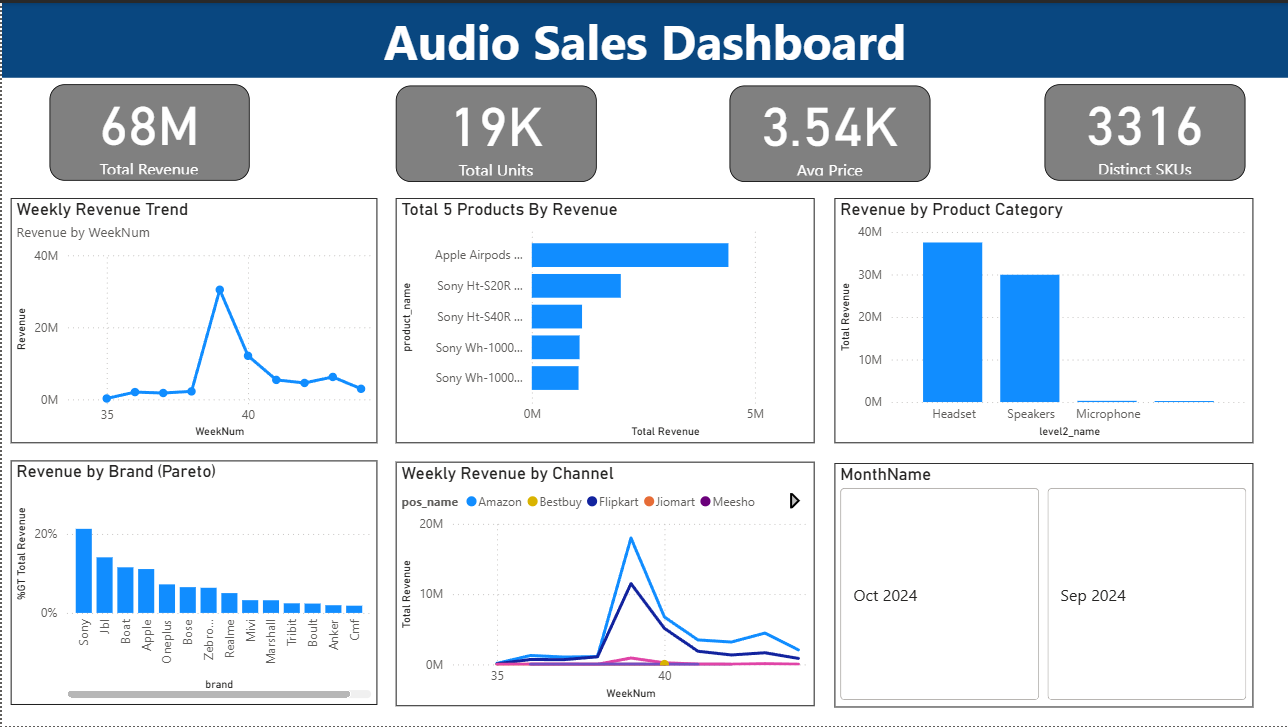

What the dashboard file says about the page in this screenshot:
{"tool":"powerbi","page":{"name":"Page 1","canvas":[1280,720],"ordinal":0},"visuals":[{"type":"shape","box":[0,0,1280.3,60.4],"z":0},{"type":"textbox","box":[0,0,1280.3,74.1],"z":1000},{"type":"card","fields":{"Values":["ANALYSIS_INPUT.Total Revenue"]},"box":[46.7,81,199,96.1],"z":2000},{"type":"card","fields":{"Values":["ANALYSIS_INPUT.Total Units"]},"box":[392.5,82.3,200.3,96.1],"z":3000},{"type":"card","fields":{"Values":["ANALYSIS_INPUT.Avg Price"]},"box":[724.5,82.3,200.3,96.1],"z":4000},{"type":"card","fields":{"Values":["ANALYSIS_INPUT.Distinct SKUs"]},"box":[1037.4,81,200.3,96.1],"z":5000},{"type":"lineChart","title":"Weekly Revenue Trend","fields":{"Category":["DateTable.WeekNum"],"Y":["ANALYSIS_INPUT.Total Revenue"]},"box":[8.2,193.5,365,244.3],"z":6000},{"type":"advancedSlicerVisual","fields":{"Values":["DateTable.MonthName"]},"box":[828.8,458.3,417.2,242.9],"z":7000},{"type":"barChart","title":"Total 5 Products By Revenue","fields":{"Category":["ANALYSIS_INPUT.product_name"],"Y":["ANALYSIS_INPUT.Total Revenue"]},"box":[392.5,193.5,417.2,244.3],"z":8000},{"type":"clusteredColumnChart","title":"Revenue by Product Category","fields":{"Category":["ANALYSIS_INPUT.level2_name"],"Y":["ANALYSIS_INPUT.Total Revenue"]},"box":[828.8,193.5,417.2,244.3],"z":9000},{"type":"lineClusteredColumnComboChart","title":"Revenue by Brand (Pareto)","fields":{"Category":["ANALYSIS_INPUT.brand"],"Y":["ANALYSIS_INPUT.Total Revenue"]},"box":[8.2,455.6,365,242.9],"z":10000},{"type":"lineChart","title":"Weekly Revenue by Channel","fields":{"Category":["DateTable.WeekNum"],"Y":["ANALYSIS_INPUT.Total Revenue"],"Series":["ANALYSIS_INPUT.pos_name"]},"box":[392.5,456.9,417.2,242.9],"z":11000}]}

Visuals, with their boxes in screenshot pixels (x1, y1, x2, y2), scaled from the page's 1280x720 canvas onto the 1288x727 screenshot:
shape: detection(0, 0, 1287, 61)
textbox: detection(0, 0, 1287, 75)
card - ANALYSIS_INPUT.Total Revenue: detection(47, 82, 247, 179)
card - ANALYSIS_INPUT.Total Units: detection(395, 83, 597, 180)
card - ANALYSIS_INPUT.Avg Price: detection(729, 83, 931, 180)
card - ANALYSIS_INPUT.Distinct SKUs: detection(1044, 82, 1245, 179)
"Weekly Revenue Trend" lineChart: detection(8, 195, 376, 442)
advancedSlicerVisual - DateTable.MonthName: detection(834, 463, 1254, 708)
"Total 5 Products By Revenue" barChart: detection(395, 195, 815, 442)
"Revenue by Product Category" clusteredColumnChart: detection(834, 195, 1254, 442)
"Revenue by Brand (Pareto)" lineClusteredColumnComboChart: detection(8, 460, 376, 705)
"Weekly Revenue by Channel" lineChart: detection(395, 461, 815, 707)
